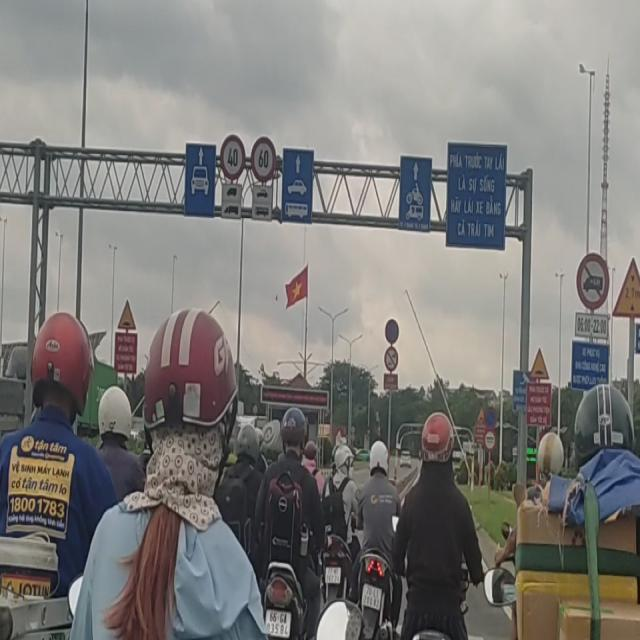Bien bao cam cac xe o to tai co khoi luong chuyen cho: (570, 234, 615, 312)
Bien bao duong co go giam toc: (526, 346, 553, 384), (117, 292, 142, 332)
Bien bao lan duong danh cho o to con: (186, 138, 216, 228)
Bien bao lan duong danh cho xe con va xe buyt: (281, 138, 325, 232)
Bien bao lan duong danh cho xe may va xe 3 banh: (395, 146, 430, 240)
Bien bao toc do toi da cho phep: (248, 124, 282, 186), (215, 127, 244, 184)
